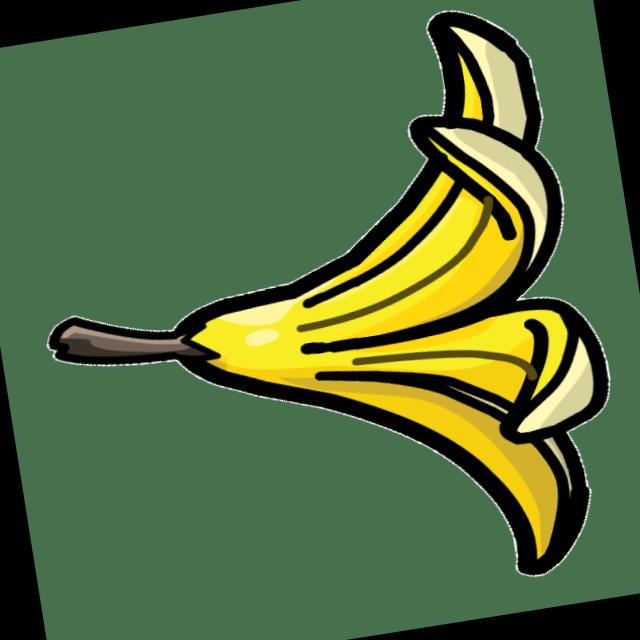banana_peel: (40, 0, 638, 589)
